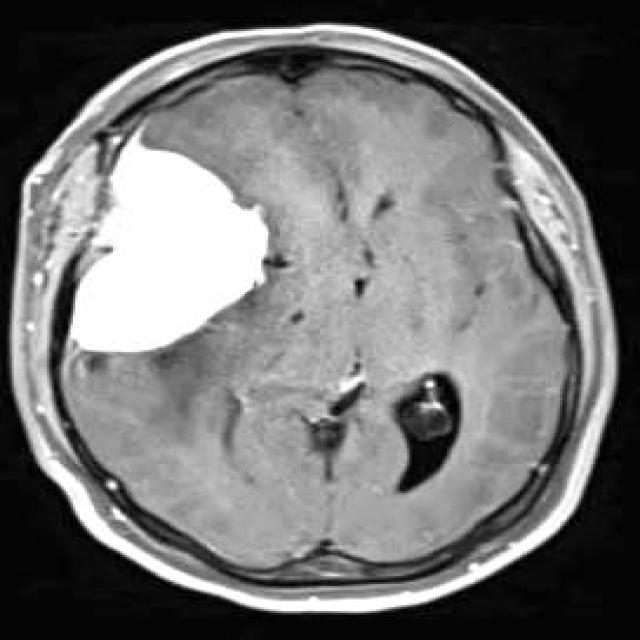brain tumor: (68, 139, 261, 350)
